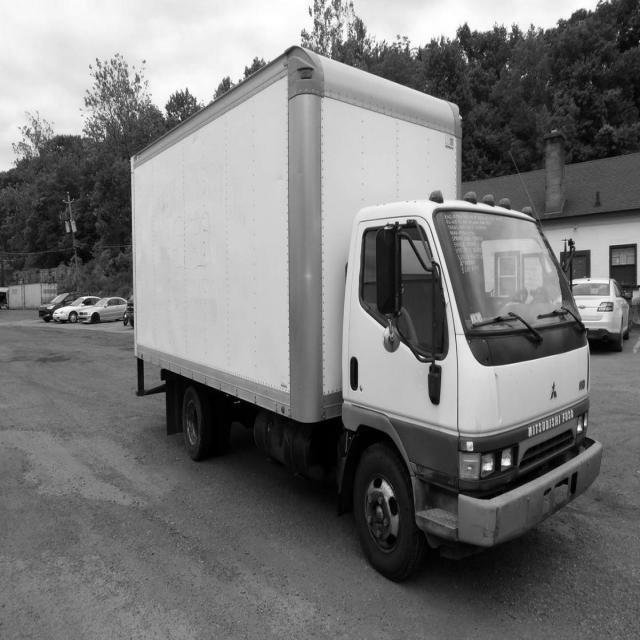truck: (321, 169, 613, 578)
